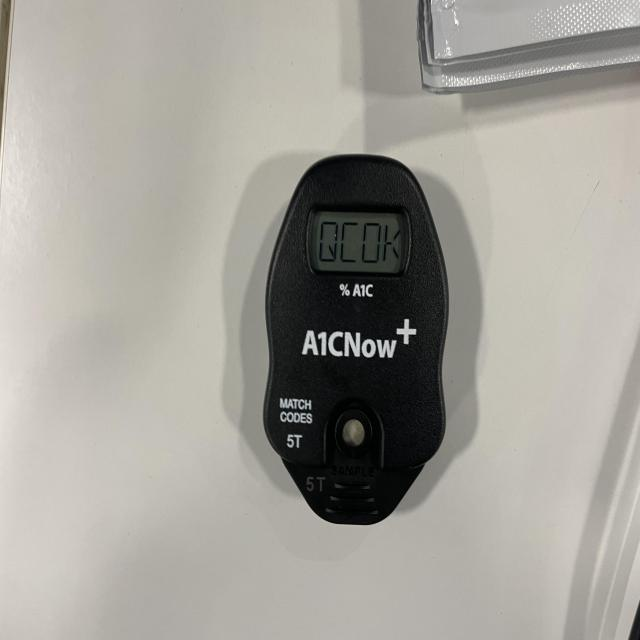hba1c: (260, 156, 450, 528)
